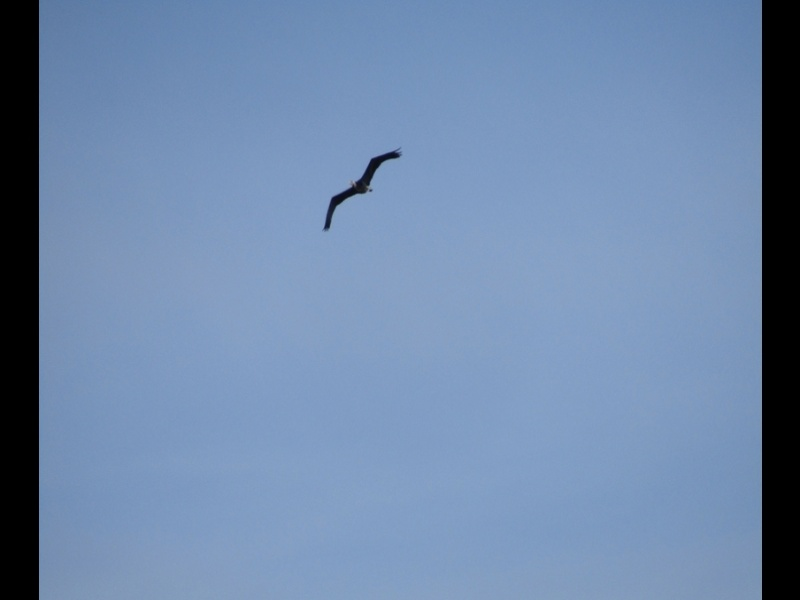heron: (322, 147, 406, 233)
